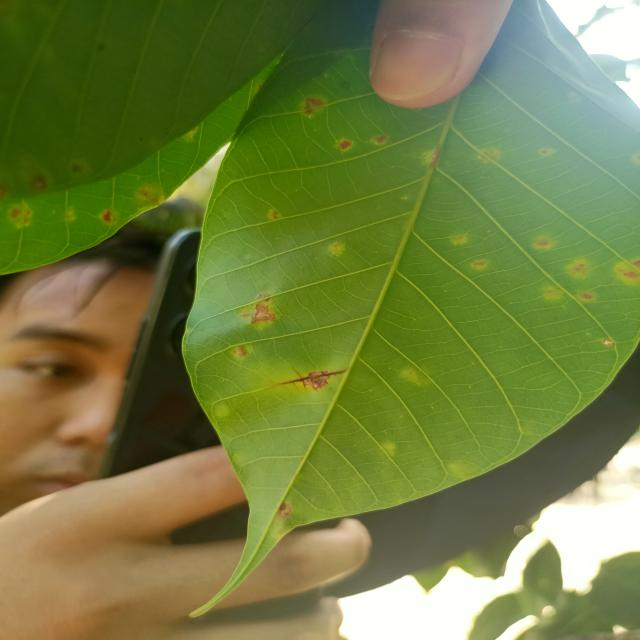Corynespora: (276, 369, 346, 390)
